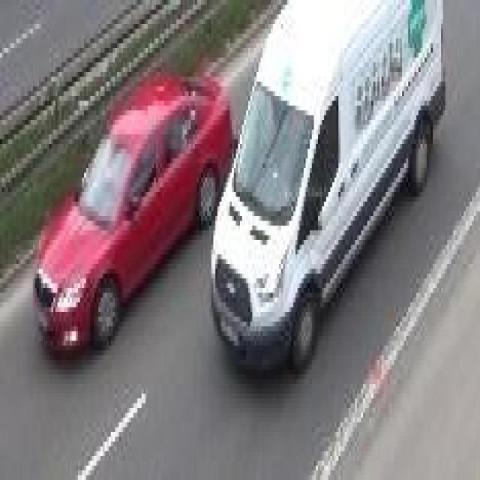car: (35, 70, 228, 363)
van: (212, 0, 444, 388)
